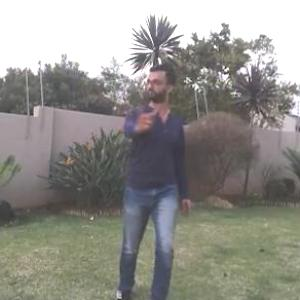takeoff-hand: (126, 99, 156, 132)
